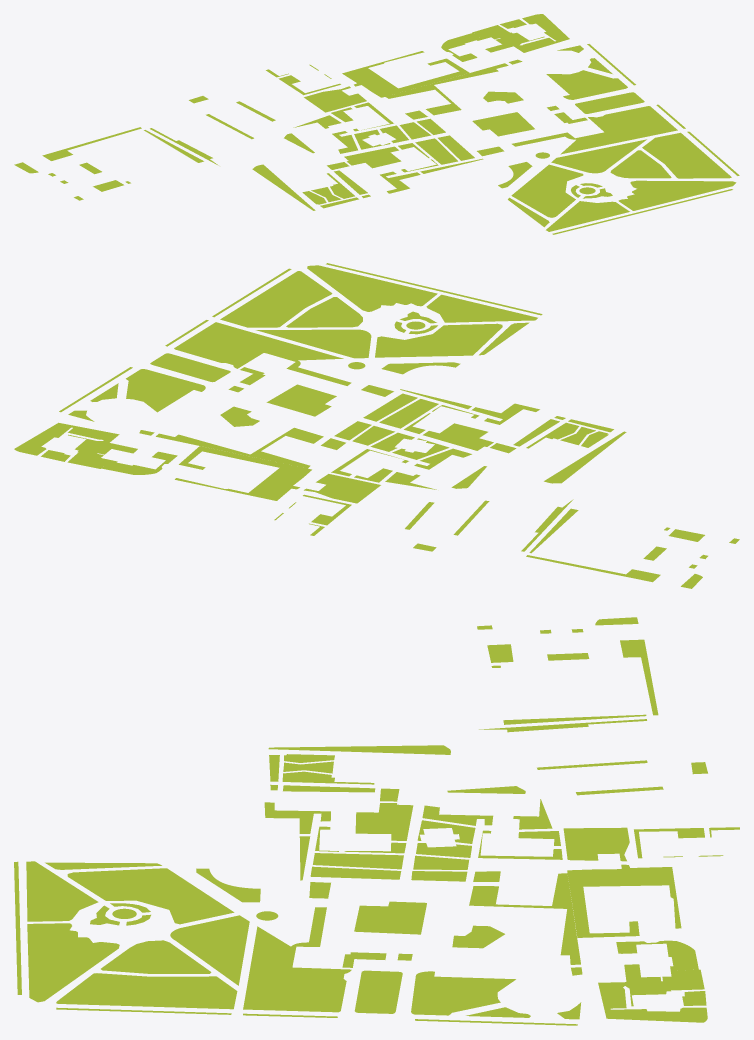
The picture shows the model from 3 angles, top to bottom: view 1: azimuth 30°, elevation 25°; view 2: azimuth 150°, elevation 25°; view 3: azimuth 270°, elevation 25°; orthographic projection. The views are drawn at different scales.
Visible parts, largest first — view 1: Curve.051, Curve.003, Curve.073, Curve.009, Curve.005, Curve.071, Curve.018, Curve.002, Curve.010, Curve.004, Curve.019, Curve.052 (+8 smaller); view 2: Curve.051, Curve.003, Curve.009, Curve.073, Curve.005, Curve.071, Curve.018, Curve.002, Curve.010, Curve.004, Curve.019, Curve.052 (+7 smaller); view 3: Curve.051, Curve.003, Curve.009, Curve.073, Curve.005, Curve.071, Curve.018, Curve.002, Curve.010, Curve.004, Curve.052, Curve.019 (+13 smaller).
Part boxes in pixels (<box>): Curve.051: <box>512,106,677,154</box>; Curve.003: <box>642,132,731,178</box>; Curve.073: <box>441,14,569,61</box>; Curve.009: <box>511,164,583,217</box>; Curve.005: <box>618,180,736,210</box>; Curve.071: <box>342,51,469,97</box>; Curve.018: <box>546,70,627,99</box>; Curve.002: <box>551,139,646,173</box>; Curve.010: <box>546,201,629,231</box>; Curve.004: <box>610,150,671,178</box>; Curve.019: <box>385,63,508,115</box>; Curve.052: <box>472,112,534,136</box>; Curve.051: <box>174,322,351,385</box>; Curve.003: <box>220,271,332,327</box>; Curve.009: <box>375,323,502,357</box>; Curve.073: <box>14,422,177,474</box>; Curve.005: <box>307,265,437,311</box>; Curve.071: <box>175,446,311,500</box>; Curve.018: <box>126,369,205,412</box>; Curve.002: <box>256,329,371,358</box>; Curve.010: <box>426,294,537,322</box>; Curve.004: <box>286,297,362,327</box>; Curve.019: <box>156,427,323,468</box>; Curve.052: <box>266,384,336,416</box>; Curve.051: <box>243,907,351,1012</box>; Curve.003: <box>56,973,237,1009</box>; Curve.009: <box>67,868,234,924</box>; Curve.073: <box>598,940,707,1022</box>; Curve.005: <box>27,923,119,1002</box>; Curve.071: <box>567,864,681,937</box>; Curve.018: <box>411,971,515,1015</box>; Curve.002: <box>170,915,249,985</box>; Curve.010: <box>26,861,98,921</box>; Curve.004: <box>101,940,211,973</box>; Curve.052: <box>354,901,426,934</box>; Curve.019: <box>469,873,580,964</box>.
Bounding box in the file's own units: 56051 × 0.00686 × 42082.
